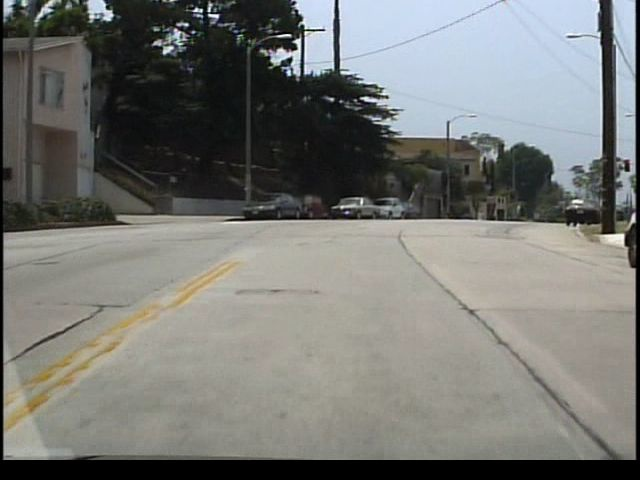person: (516, 202, 524, 223)
